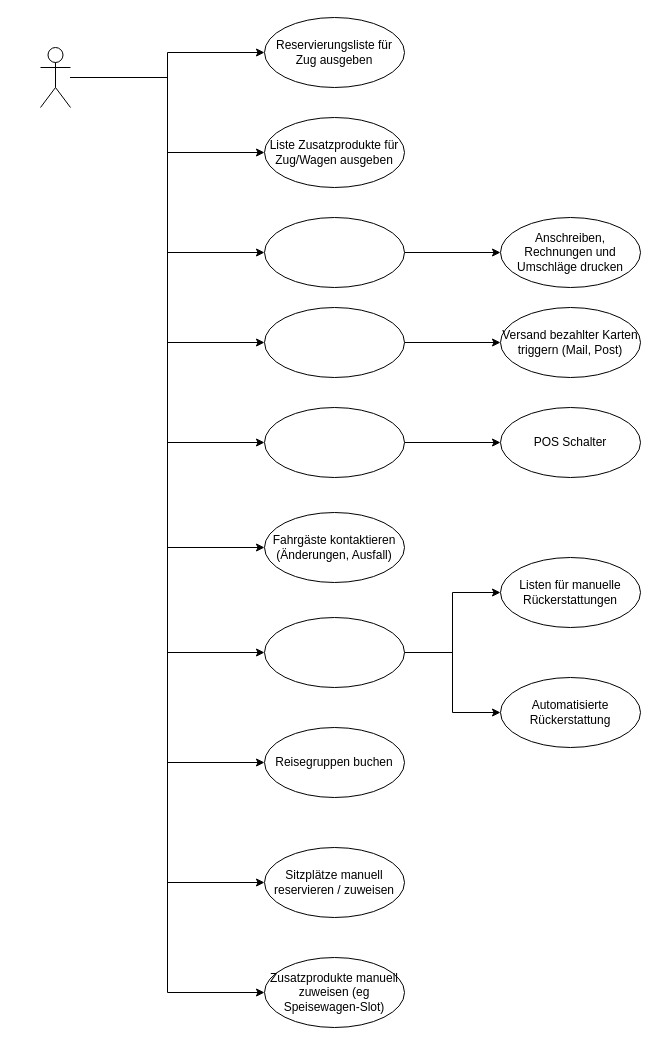
Image size: 658x1045. Some labels were removed from this diagram. Each missing label, with the centre of its shape:
Betriebsplaner: [55,77]
Fahrkarten als Bezahlt markieren: [334,342]
Liste unbezahlter Fahrkarten ausgeben: [334,442]
Listen für Fahrkartenversand ausgeben: [334,252]
Rückerstattungen: [334,652]
